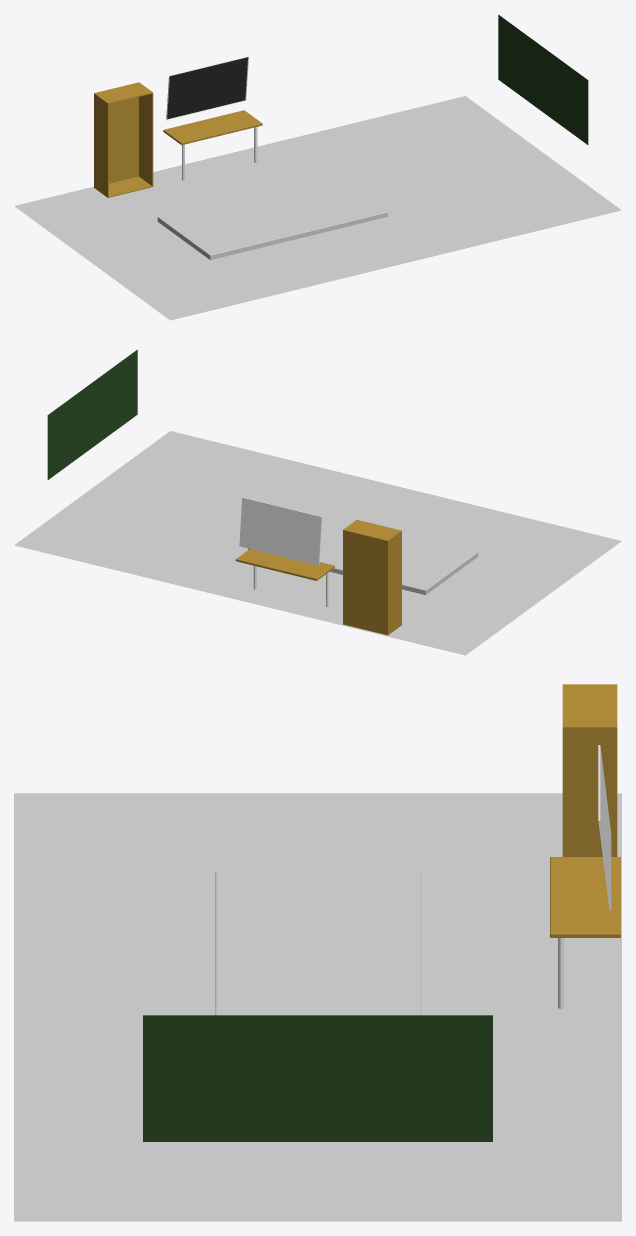
The model's file is Room.glb.
The picture shows the model from 3 angles, top to bottom: view 1: azimuth 30°, elevation 25°; view 2: azimuth 150°, elevation 25°; view 3: azimuth 270°, elevation 25°; orthographic projection. The views are drawn at different scales.
Visible parts, largest first — view 1: Plane, Cube.001, Plane.004, Cube.006, Cube; view 2: Plane, Cube.001, Plane.004, Cube.006, Cube; view 3: Plane, Plane.004, Cube.001, Cube, Cube.006.
Boxes of the visible parts, x1,y1,x2,y2 form: Plane: [14, 96, 621, 320]; Cube.001: [94, 82, 153, 197]; Plane.004: [498, 14, 588, 144]; Cube.006: [166, 56, 248, 120]; Cube: [163, 110, 262, 145]; Plane: [14, 431, 621, 655]; Cube.001: [343, 519, 401, 635]; Plane.004: [47, 349, 137, 479]; Cube.006: [239, 497, 322, 565]; Cube: [235, 549, 334, 580]; Plane: [14, 793, 621, 1221]; Plane.004: [143, 1015, 492, 1141]; Cube.001: [562, 684, 617, 856]; Cube: [550, 857, 620, 937]; Cube.006: [598, 745, 611, 909].
Bounding box in the file's own units: 10 × 2.24 × 6.
